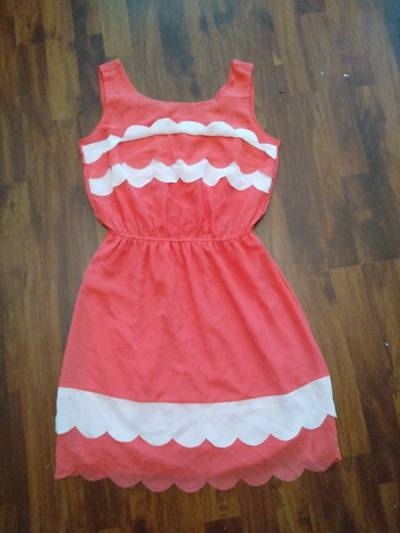Dress: (37, 58, 361, 502)
